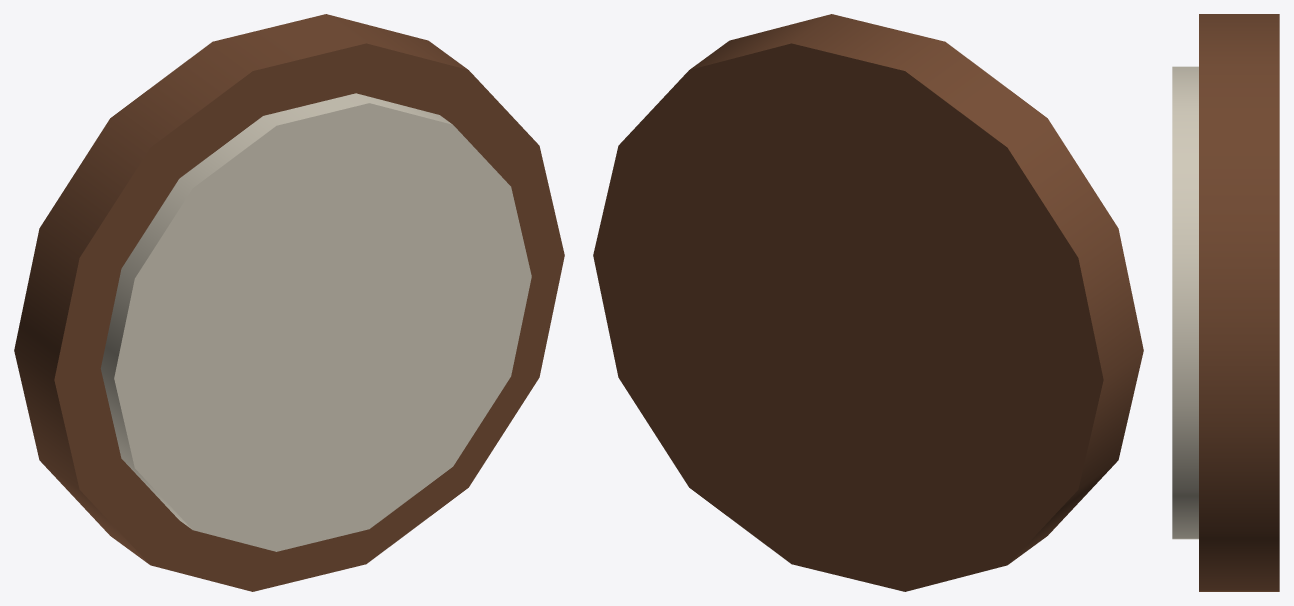
File: wall_clock.glb
3 renders of one model, left to right at view 1: azimuth 30°, elevation 25°; view 2: azimuth 150°, elevation 25°; view 3: azimuth 270°, elevation 25°, orthographic.
Visible parts, largest first — view 1: body; view 2: body; view 3: body.
Part boxes in pixels (x1,y1,x2,y2): body: (14,14,564,591); body: (593,14,1143,591); body: (1172,14,1279,591).
Size of the model in its own units: 0.44 by 0.429 by 0.08.
